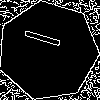I: (23, 26, 71, 53)
